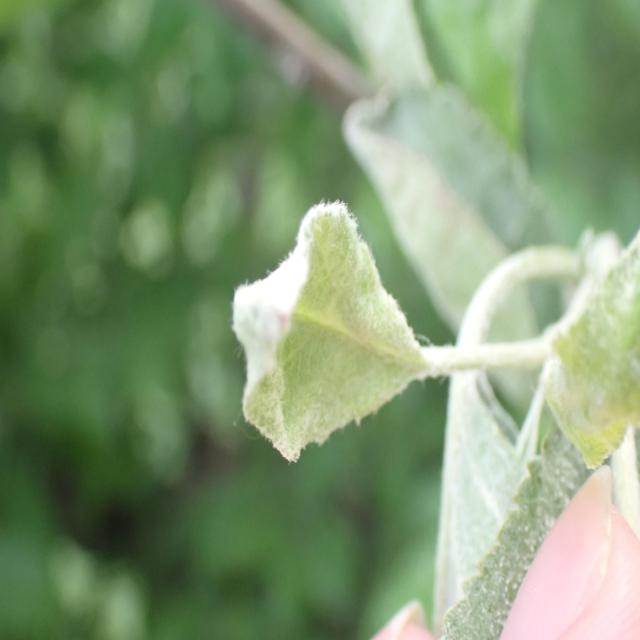Powdery_mildew: (340, 35, 591, 372), (220, 193, 427, 482), (438, 257, 585, 640), (490, 194, 640, 483)
